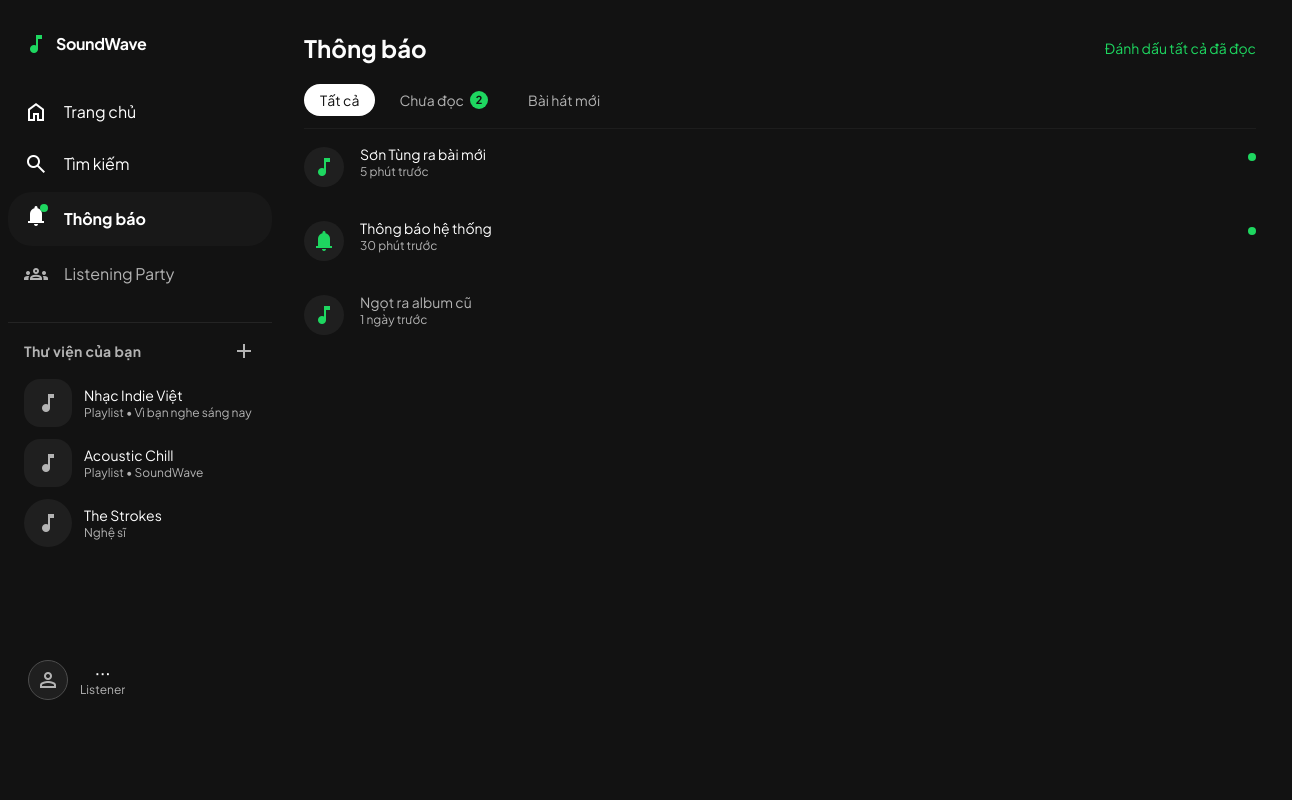
Test: NotificationsPage — FilterPills › "Bài hát mới" filter shows only new_release type
The image size is (1292, 800).
Expected: the element with test id "notifications-list" is shown, [280, 129, 1280, 351]
Click the button with test id "filter-pill-new_release" at (564,100), box [512, 84, 616, 116]
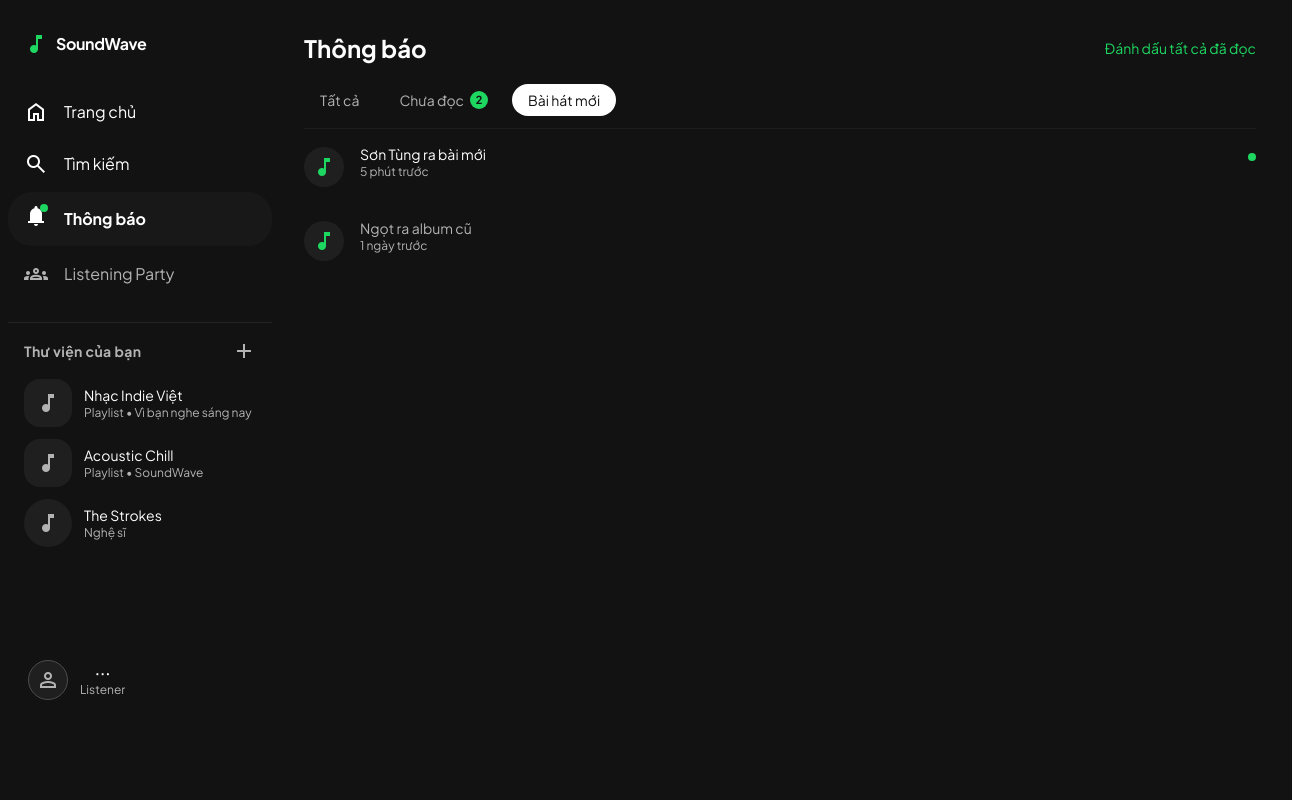
Result: the number of buttons with test id "notification-row" is 2 at [280, 129, 1280, 203]; [280, 203, 1280, 277]
